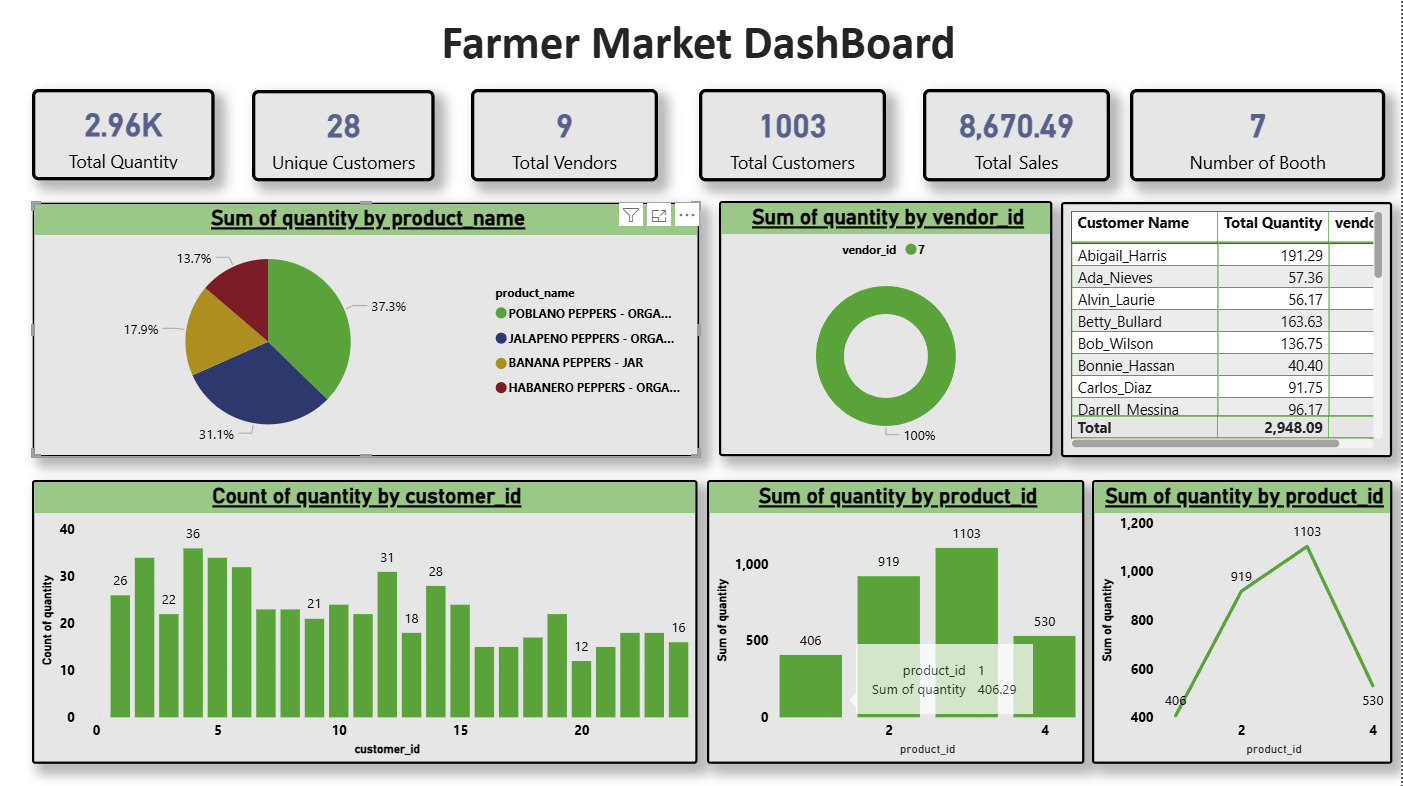

Layout of this report page (visuals, bound fields, positions):
{"tool":"powerbi","page":{"name":"Quantity wise analysis","canvas":[1280,720],"ordinal":0},"visuals":[{"type":"columnChart","fields":{"Category":["customer_purchases.customer_id"],"Y":["customer_purchases.quantity"]},"box":[35,439.6,605,257.8],"z":0},{"type":"columnChart","fields":{"Category":["product.product_id"],"Y":["customer_purchases.quantity"]},"box":[648.8,439.6,343.3,257.8],"z":1000},{"type":"donutChart","fields":{"Category":["vendor.vendor_id"],"Y":["customer_purchases.quantity"]},"box":[660.4,186.7,303.5,232.5],"z":2000},{"type":"textbox","box":[11.2,10.4,1261,63],"z":3000},{"type":"card","fields":{"Values":["customer_purchases.quantity"]},"box":[35.4,84.5,165.6,82.8],"z":4000},{"type":"card","fields":{"Values":["customer.customer_id"]},"box":[235.5,85.4,166.5,82.8],"z":5000},{"type":"card","fields":{"Values":["vendor_booth_assignments.booth_number"]},"box":[1033.3,84.5,232,83.7],"z":6000},{"type":"card","fields":{"Values":["customer_purchases.Total_Sales"]},"box":[845.3,84.5,169.9,83.7],"z":7000},{"type":"card","fields":{"Values":["customer_purchases.customer_id"]},"box":[641.7,84.5,169.9,83.7],"z":8000},{"type":"card","fields":{"Values":["vendor.vendor_id"]},"box":[434.7,84.5,169.9,83.7],"z":9000},{"type":"pieChart","fields":{"Y":["customer_purchases.quantity"],"Category":["product.product_name"]},"box":[35.4,187.2,607.2,232],"z":10000},{"type":"tableEx","fields":{"Values":["customer.customer_full_name","customer_purchases.quantity","vendor.vendor_id"]},"box":[971.2,187.2,301,232],"z":11000},{"type":"lineChart","fields":{"Category":["product.product_id"],"Y":["customer_purchases.quantity"]},"box":[998.9,439.6,273.3,257.8],"z":12000}]}

Visuals, with their boxes in screenshot pixels (x1, y1, x2, y2), scaled from the page's 1280x720 canvas onto the 1403x786 screenshot:
columnChart - customer_purchases.customer_id x customer_purchases.quantity: <region>38, 480, 702, 761</region>
columnChart - product.product_id x customer_purchases.quantity: <region>711, 480, 1087, 761</region>
donutChart - vendor.vendor_id x customer_purchases.quantity: <region>724, 204, 1057, 458</region>
textbox: <region>12, 11, 1394, 80</region>
card - customer_purchases.quantity: <region>39, 92, 220, 183</region>
card - customer.customer_id: <region>258, 93, 441, 184</region>
card - vendor_booth_assignments.booth_number: <region>1133, 92, 1387, 184</region>
card - customer_purchases.Total_Sales: <region>927, 92, 1113, 184</region>
card - customer_purchases.customer_id: <region>703, 92, 890, 184</region>
card - vendor.vendor_id: <region>476, 92, 663, 184</region>
pieChart - customer_purchases.quantity x product.product_name: <region>39, 204, 704, 458</region>
tableEx - customer.customer_full_name x customer_purchases.quantity: <region>1065, 204, 1394, 458</region>
lineChart - product.product_id x customer_purchases.quantity: <region>1095, 480, 1394, 761</region>
